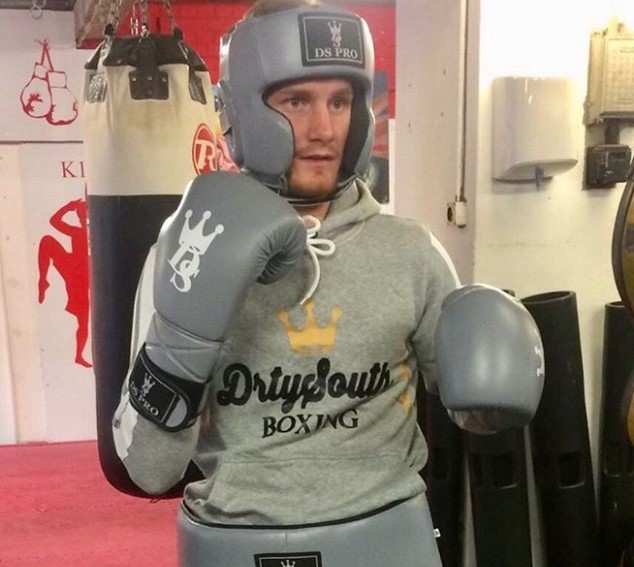face_no_mask: (255, 57, 363, 199)
